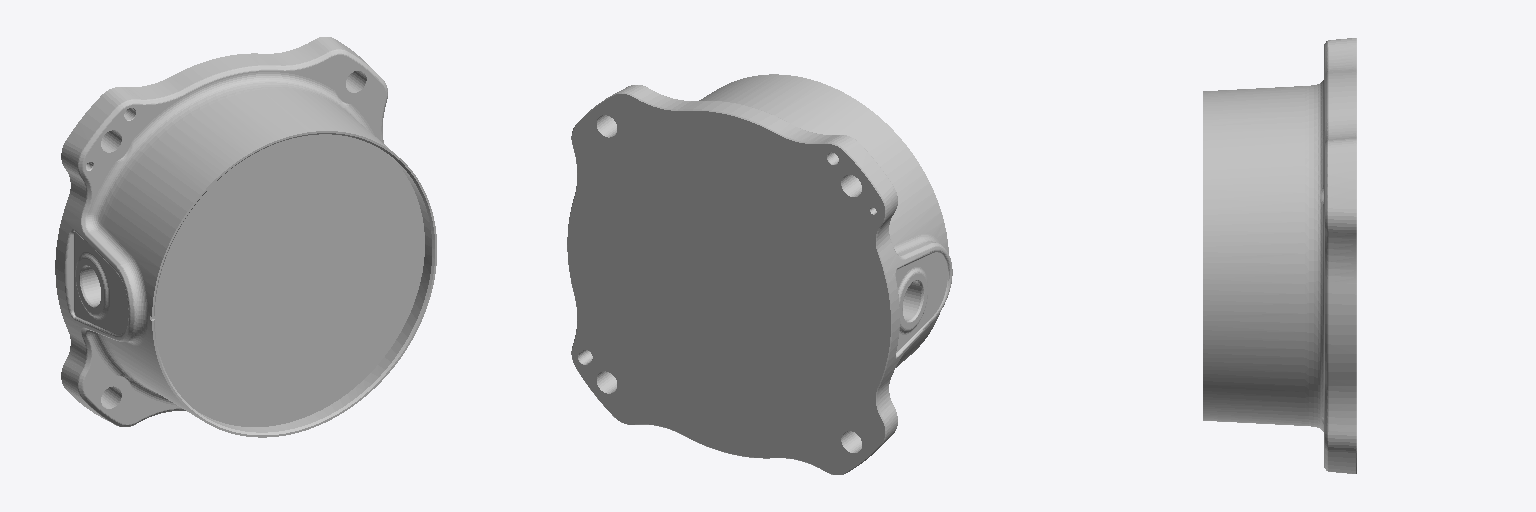
File: tm12s-tbb_a.obj
The picture shows the model from 3 angles: view 1: azimuth 30°, elevation 25°; view 2: azimuth 150°, elevation 25°; view 3: azimuth 270°, elevation 25°; orthographic projection.
Visible parts, largest first — view 1: 1; view 2: 1; view 3: 1.
Part boxes in pixels (bbox=[...]): 1: bbox=[55, 37, 436, 437]; 1: bbox=[567, 74, 952, 474]; 1: bbox=[1203, 38, 1356, 473].
Size of the model in its own units: 0.1709 by 0.1709 by 0.0704.